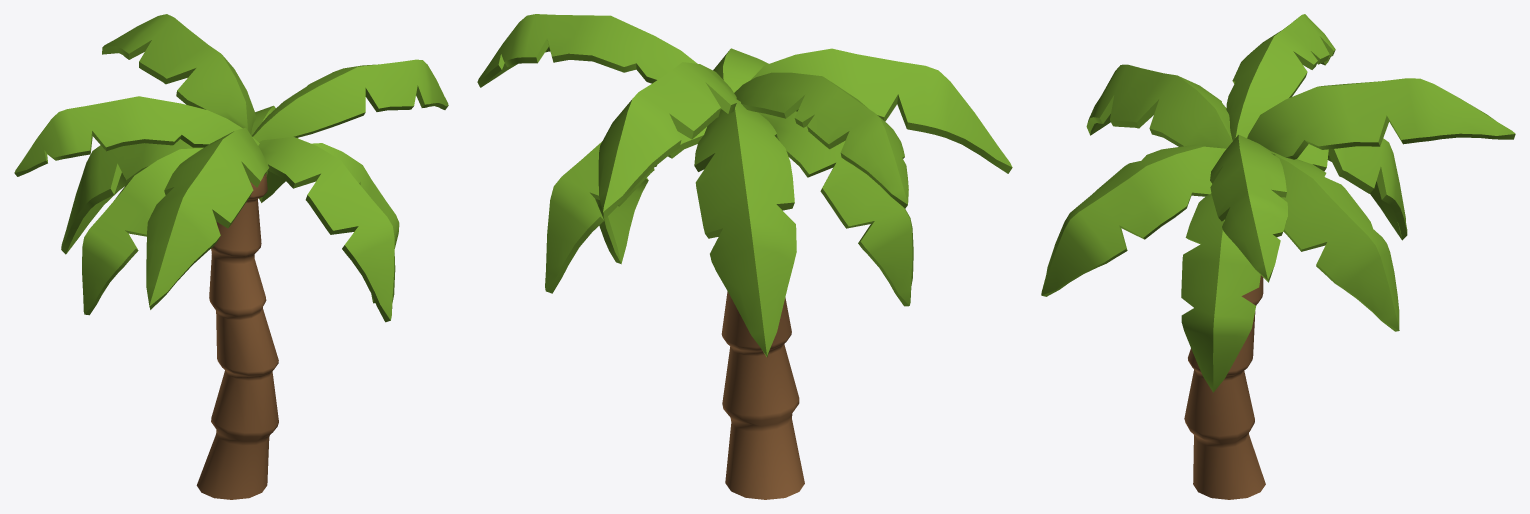
Rendered from palm.glb.
The picture shows the model from 3 angles, left to right: view 1: azimuth 30°, elevation 25°; view 2: azimuth 150°, elevation 25°; view 3: azimuth 270°, elevation 25°; orthographic projection. The views are drawn at different scales.
Parts seen in each view (by area): view 1: Environment_PalmTree_3; view 2: Environment_PalmTree_3; view 3: Environment_PalmTree_3.
Part boxes in pixels (x1=…): Environment_PalmTree_3: x1=14, y1=14, x2=448, y2=499; Environment_PalmTree_3: x1=477, y1=14, x2=1012, y2=499; Environment_PalmTree_3: x1=1041, y1=14, x2=1515, y2=499.
Size of the model in its own units: 2.86 by 2.69 by 2.75.
1 material, 1 textured.
